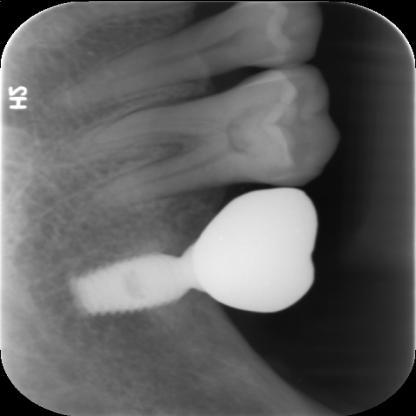Bicon: (73, 248, 199, 318)
